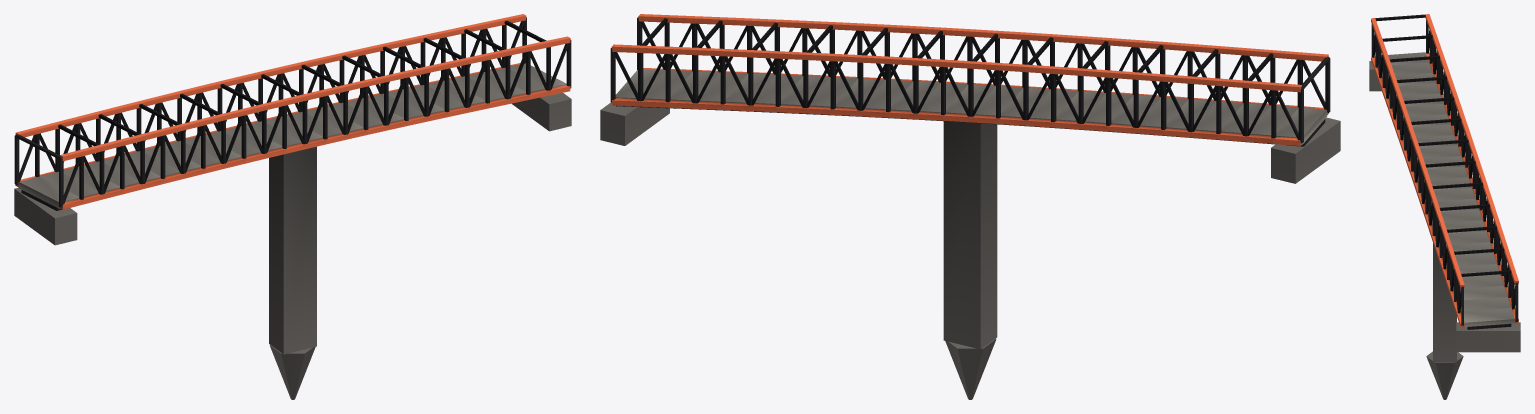
The model's file is about_projects.glb.
3 views of the same model, side by side, from view 1: azimuth 30°, elevation 25°; view 2: azimuth 150°, elevation 25°; view 3: azimuth 270°, elevation 25° (orthographic). The views are drawn at different scales.
Parts seen in each view (by area): view 1: bridge; view 2: bridge; view 3: bridge.
Boxes of the visible parts, x1,y1,x2,y2 form: bridge: [14, 14, 571, 399]; bridge: [600, 14, 1340, 399]; bridge: [1369, 14, 1520, 399].
Size of the model in its own units: 15.6 by 8.89 by 4.46.
